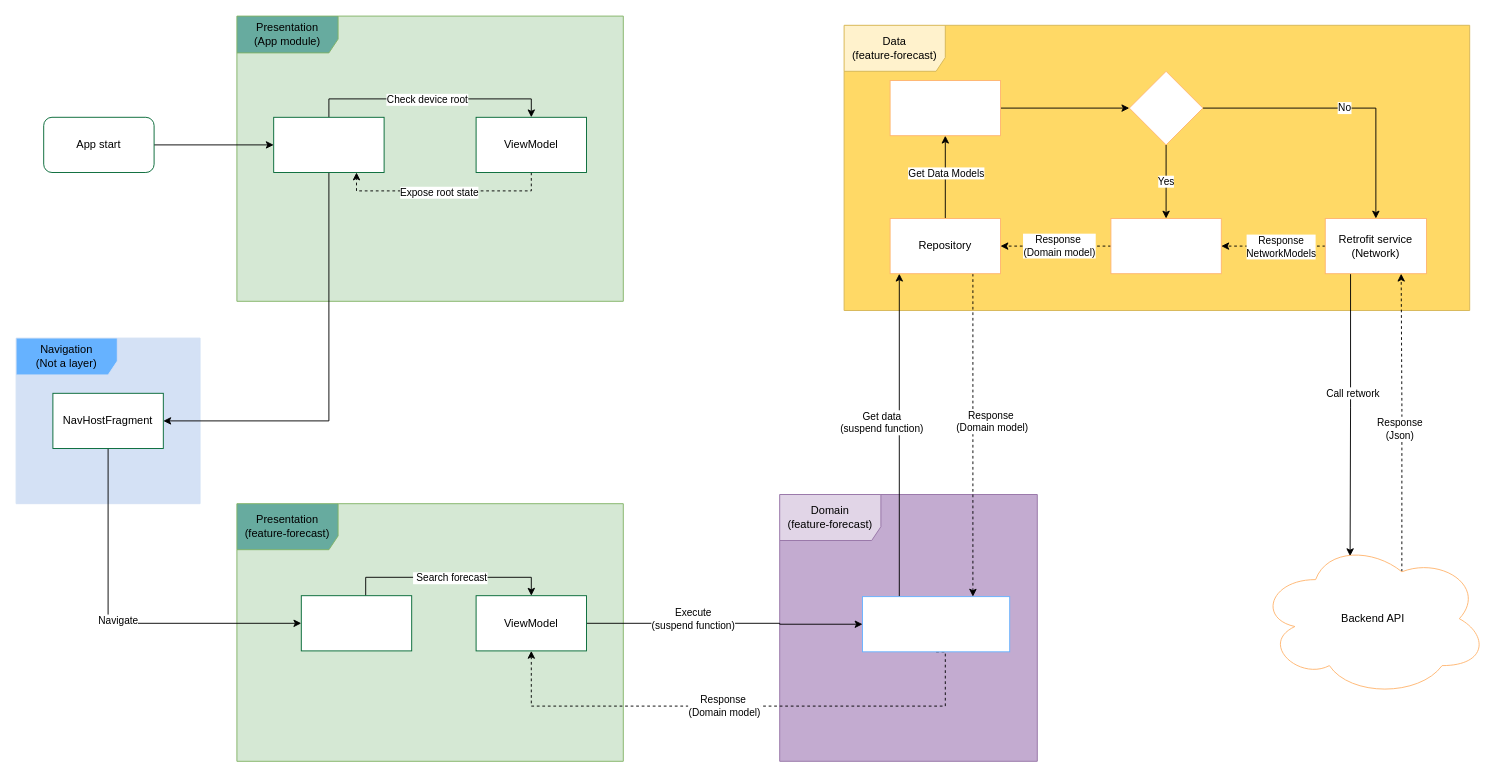
Some shapes in this 1504 by 777 pixel diagram are drawn without their labels. The centre of each missing label's shape, as x and y in pixels:
"Data available?" goes at (x=1165, y=107).
"ForecastFragment" goes at (x=356, y=623).
"Mapper" goes at (x=1165, y=246).
"NavHost HomeActivity" goes at (x=328, y=144).
"Room (Offline cache)" goes at (x=944, y=108).
"UseCase (Execute bussiness logic)" goes at (x=936, y=624).
